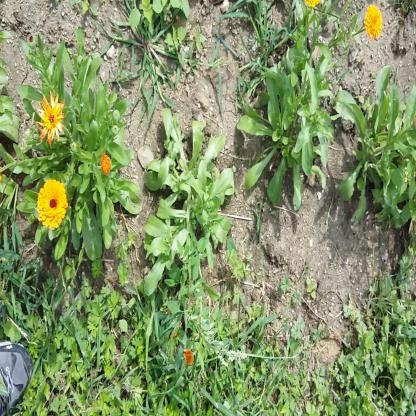marigold: (38, 90, 66, 140), (37, 179, 66, 227), (364, 4, 382, 36)
